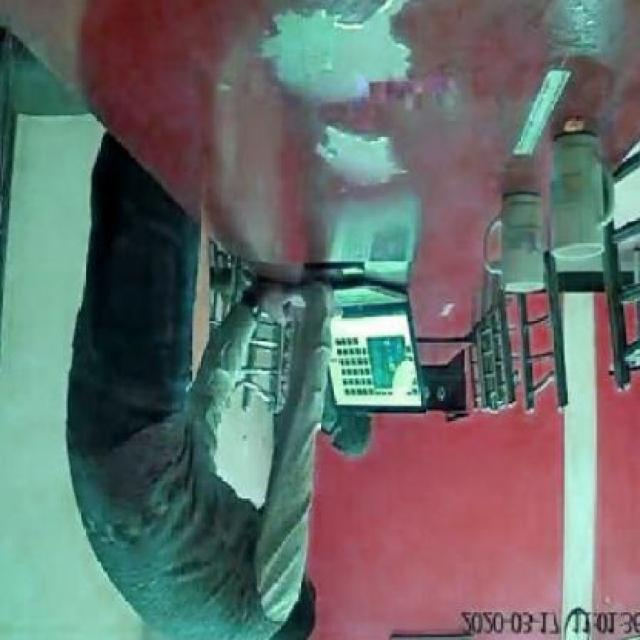spillage: (263, 0, 410, 184)
